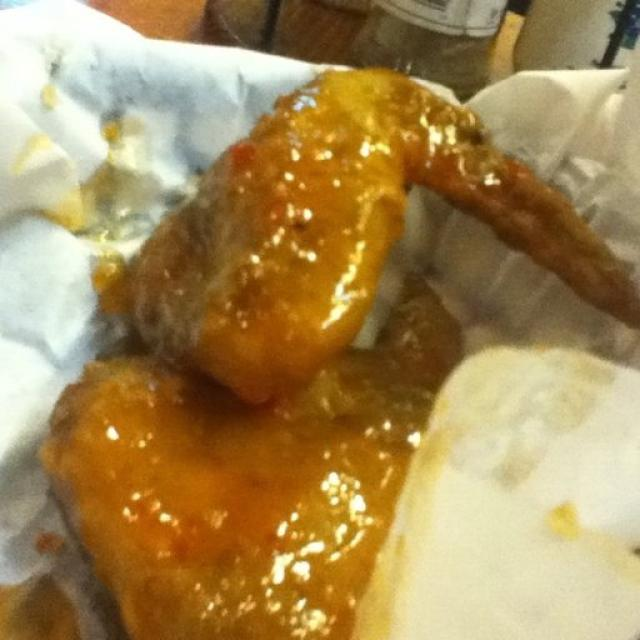Frango: (154, 45, 631, 400)
